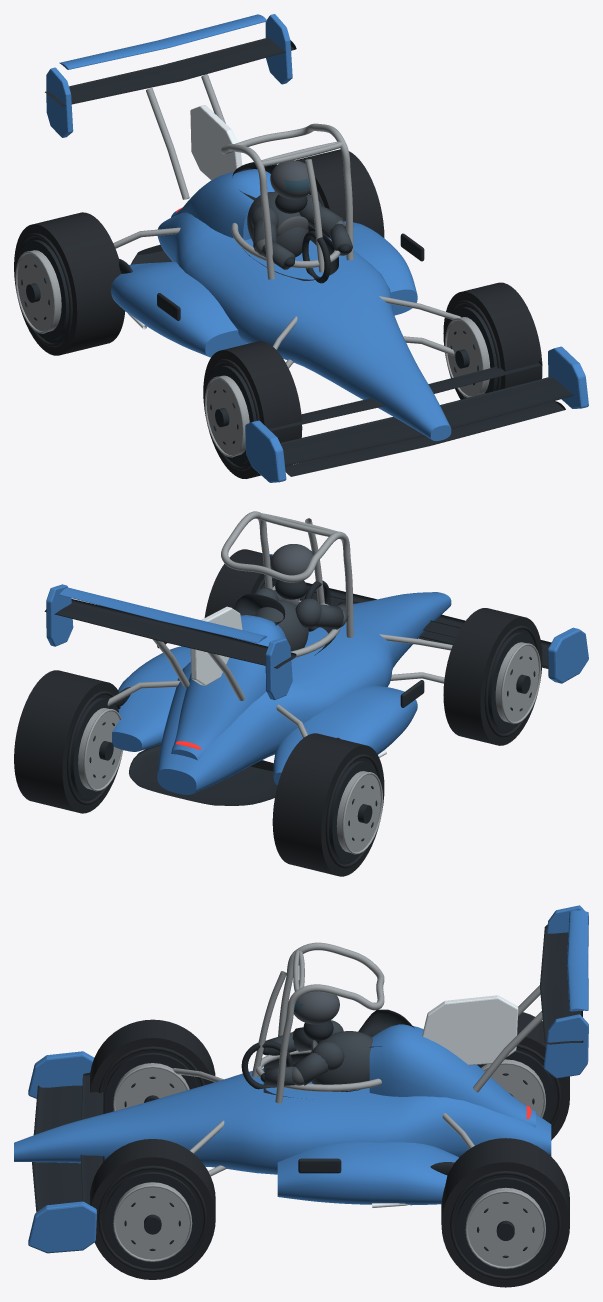
Rendered from car_northstar_gp.glb.
3 renders of one model, top to bottom at view 1: azimuth 30°, elevation 25°; view 2: azimuth 150°, elevation 25°; view 3: azimuth 270°, elevation 25°, orthographic.
Parts seen in each view (by area): view 1: Blender Vehicle - Northstar Grand Prix.016 - Vehicle Body, WheelMesh_F1Rear_car_northstar_gp_-1.016, WheelMesh_F1Front_car_northstar_gp_-1.016, WheelMesh_F1Front_car_northstar_gp_1.016, WheelMesh_F1Rear_car_northstar_gp_1.016, Halo_Main_car_northstar_gp.010, RearWing_Pylon_car_northstar_gp_-1.010, Halo_CenterPillar_car_northstar_gp.010, Halo_Crossbar_car_northstar_gp.010, CockpitRim_car_northstar_gp.010; view 2: Blender Vehicle - Northstar Grand Prix.016 - Vehicle Body, WheelMesh_F1Rear_car_northstar_gp_-1.016, WheelMesh_F1Rear_car_northstar_gp_1.016, WheelMesh_F1Front_car_northstar_gp_-1.016, Halo_Main_car_northstar_gp.010, WheelMesh_F1Front_car_northstar_gp_1.016, Halo_Crossbar_car_northstar_gp.010, SuspensionRearUpper_car_northstar_gp_1.010; view 3: Blender Vehicle - Northstar Grand Prix.016 - Vehicle Body, WheelMesh_F1Rear_car_northstar_gp_1.016, WheelMesh_F1Front_car_northstar_gp_1.016, WheelMesh_F1Front_car_northstar_gp_-1.016, WheelMesh_F1Rear_car_northstar_gp_-1.016, Halo_Main_car_northstar_gp.010, CockpitRim_car_northstar_gp.010, RearWing_Pylon_car_northstar_gp_1.010, Halo_CenterPillar_car_northstar_gp.010.
Boxes of the visible parts, x1,y1,x2,y2 form: Blender Vehicle - Northstar Grand Prix.016 - Vehicle Body: [45, 14, 588, 482]; WheelMesh_F1Rear_car_northstar_gp_-1.016: [14, 212, 125, 355]; WheelMesh_F1Front_car_northstar_gp_-1.016: [203, 341, 302, 478]; WheelMesh_F1Front_car_northstar_gp_1.016: [443, 282, 542, 399]; WheelMesh_F1Rear_car_northstar_gp_1.016: [296, 149, 384, 237]; Halo_Main_car_northstar_gp.010: [221, 123, 353, 279]; RearWing_Pylon_car_northstar_gp_-1.010: [146, 88, 189, 199]; Halo_CenterPillar_car_northstar_gp.010: [305, 159, 324, 272]; Halo_Crossbar_car_northstar_gp.010: [261, 141, 342, 166]; CockpitRim_car_northstar_gp.010: [231, 223, 340, 268]; Blender Vehicle - Northstar Grand Prix.016 - Vehicle Body: [44, 544, 588, 805]; WheelMesh_F1Rear_car_northstar_gp_-1.016: [272, 733, 384, 876]; WheelMesh_F1Rear_car_northstar_gp_1.016: [14, 670, 123, 813]; WheelMesh_F1Front_car_northstar_gp_-1.016: [443, 608, 542, 745]; Halo_Main_car_northstar_gp.010: [221, 511, 353, 637]; WheelMesh_F1Front_car_northstar_gp_1.016: [204, 549, 302, 617]; Halo_Crossbar_car_northstar_gp.010: [259, 513, 337, 536]; SuspensionRearUpper_car_northstar_gp_1.010: [107, 680, 180, 706]; Blender Vehicle - Northstar Grand Prix.016 - Vehicle Body: [14, 905, 588, 1253]; WheelMesh_F1Rear_car_northstar_gp_1.016: [441, 1138, 569, 1287]; WheelMesh_F1Front_car_northstar_gp_1.016: [90, 1139, 215, 1279]; WheelMesh_F1Front_car_northstar_gp_-1.016: [90, 1019, 215, 1113]; WheelMesh_F1Rear_car_northstar_gp_-1.016: [477, 1012, 569, 1140]; Halo_Main_car_northstar_gp.010: [275, 942, 384, 1103]; CockpitRim_car_northstar_gp.010: [255, 1050, 381, 1091]; RearWing_Pylon_car_northstar_gp_1.010: [473, 1011, 542, 1092]; Halo_CenterPillar_car_northstar_gp.010: [251, 971, 286, 1077].
Bounding box in the file's own units: 2.92 × 2.05 × 4.24.
